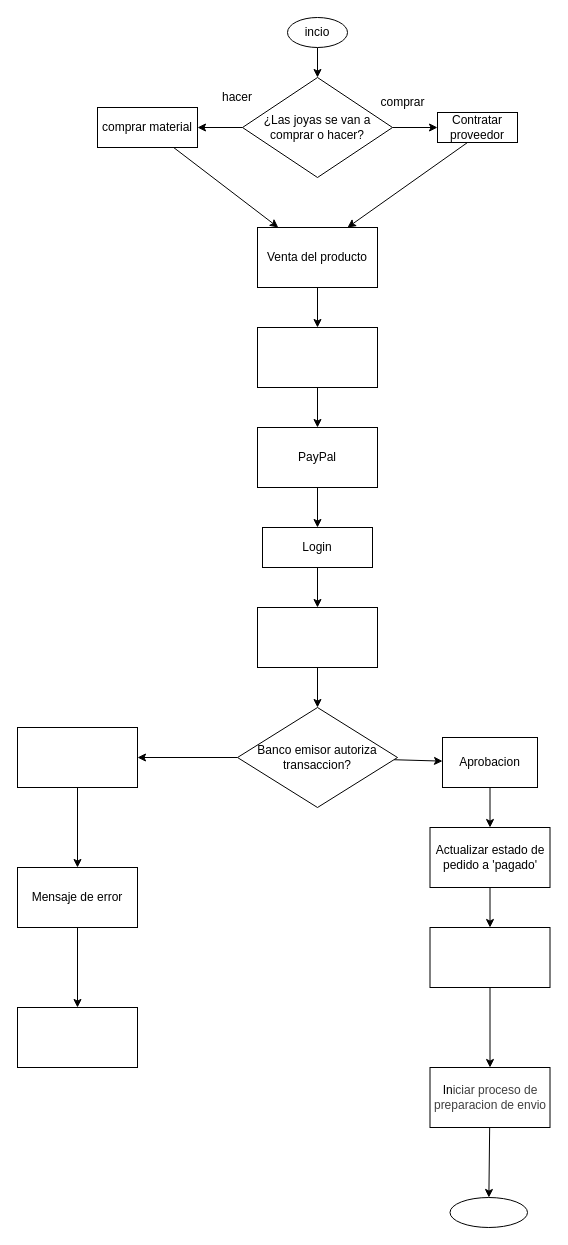
Some shapes in this 568 by 1245 pixel diagram are drawn without their labels. The centre of each missing label's shape, as x and y in pixels:
Enviar correo de confirmacion de pedido al cliente: point (489, 957)
fin: point (488, 1212)
Ingresar numero, fecha, cvv y confirmar pago: point (317, 637)
Rechazo: point (77, 757)
Reintentar o usar otro metodo: point (77, 1037)
Transferencia: point (317, 357)
